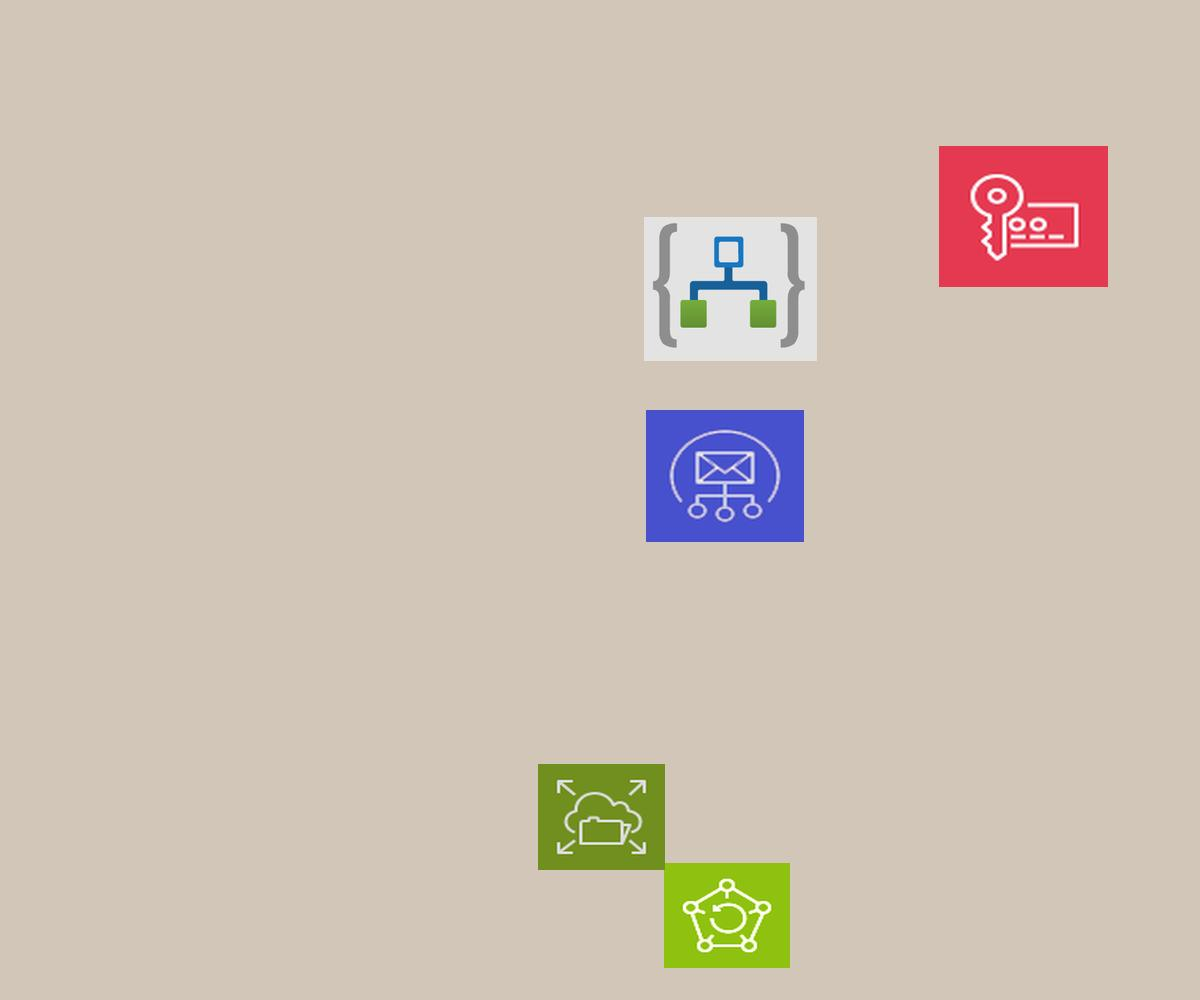AWS-Backup: (664, 863, 790, 968)
AWS-EFS: (538, 764, 665, 870)
AWS-Key-Management-Service: (939, 146, 1108, 287)
AWS-Simple-Email-Service: (646, 410, 804, 542)
Azure_integration-204-Logic-Apps: (644, 217, 817, 361)
